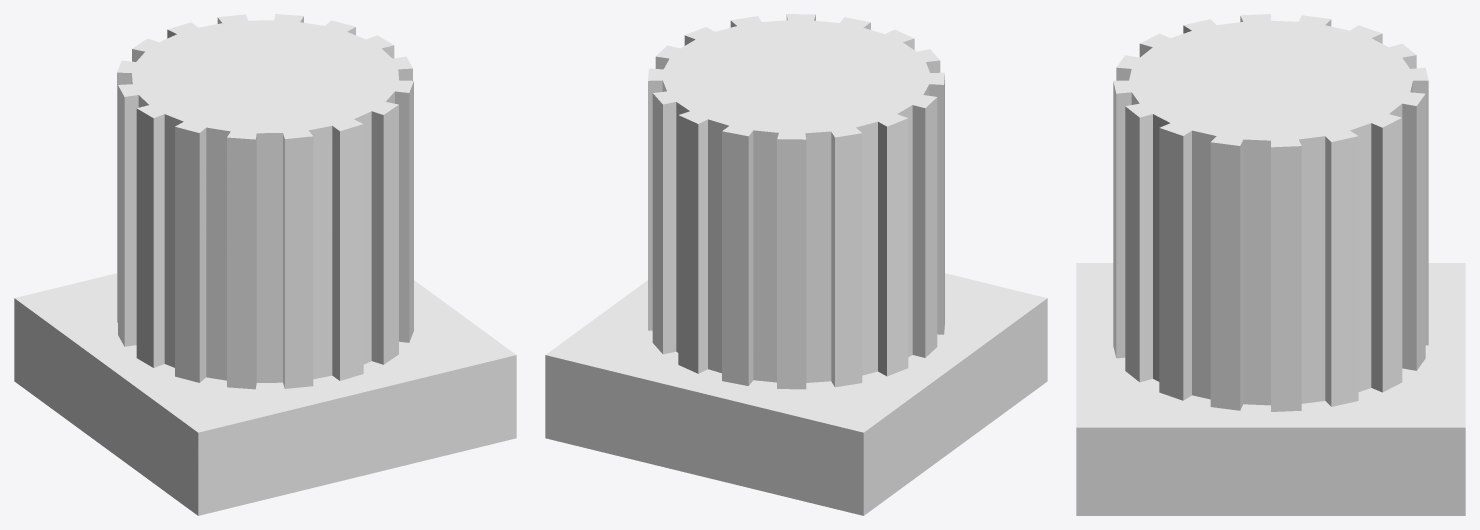
File: PillarFoundation.obj
The picture shows the model from 3 angles, left to right: view 1: azimuth 30°, elevation 25°; view 2: azimuth 150°, elevation 25°; view 3: azimuth 270°, elevation 25°; orthographic projection. The views are drawn at different scales.
Parts seen in each view (by area): view 1: Cube.001; view 2: Cube.001; view 3: Cube.001.
Part boxes in pixels (x1,y1,x2,y2): Cube.001: [14, 14, 516, 515]; Cube.001: [545, 14, 1047, 515]; Cube.001: [1076, 14, 1465, 515].
Size of the model in its own units: 2 by 2 by 2.
Materials: 1 (1 with a texture image).
